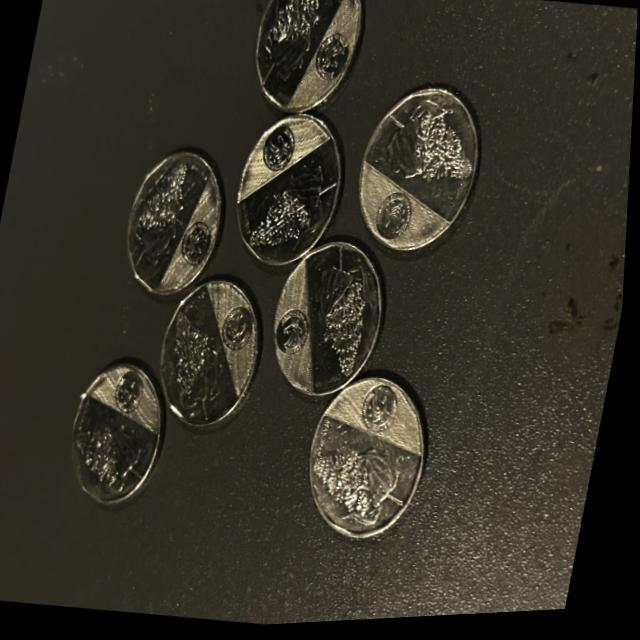10_New_Back: (305, 376, 435, 536), (361, 103, 472, 256), (280, 245, 392, 396), (133, 149, 229, 287), (75, 369, 171, 500), (164, 278, 264, 402), (237, 134, 330, 264), (255, 0, 349, 104)
